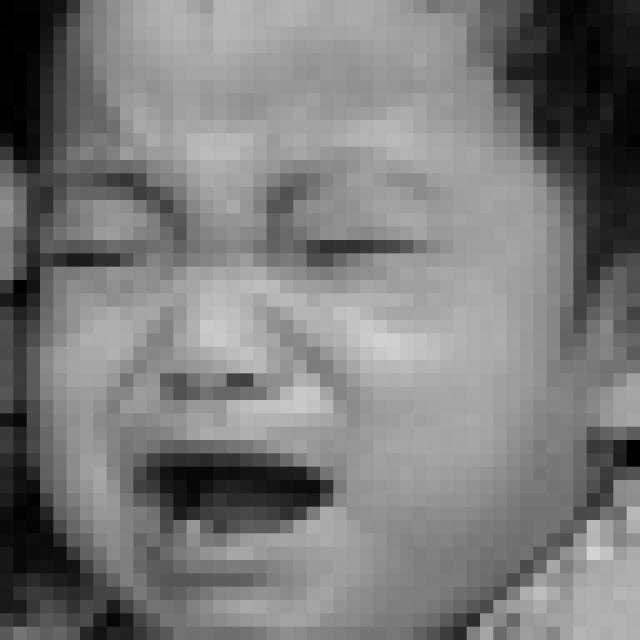sad: (41, 141, 456, 596)
